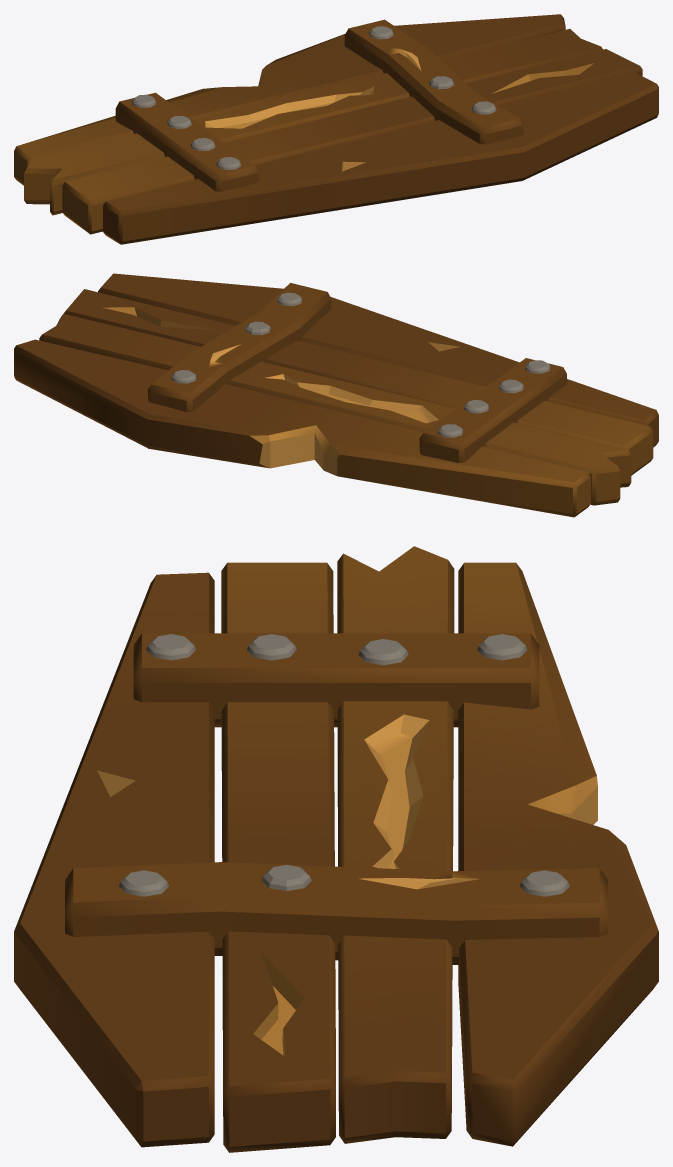
File: Cofin_Lid_1_1.glb
3 renders of one model, top to bottom at view 1: azimuth 30°, elevation 25°; view 2: azimuth 150°, elevation 25°; view 3: azimuth 270°, elevation 25°, orthographic. The views are drawn at different scales.
Parts seen in each view (by area): view 1: Cofin_Lid_1_1; view 2: Cofin_Lid_1_1; view 3: Cofin_Lid_1_1.
Part boxes in pixels (x1,y1,x2,y2): Cofin_Lid_1_1: [14, 14, 658, 244]; Cofin_Lid_1_1: [14, 273, 658, 517]; Cofin_Lid_1_1: [14, 546, 658, 1152].
Size of the model in its own units: 1.38 by 0.1265 by 0.6911.
Materials: 2 (2 with a texture image).
